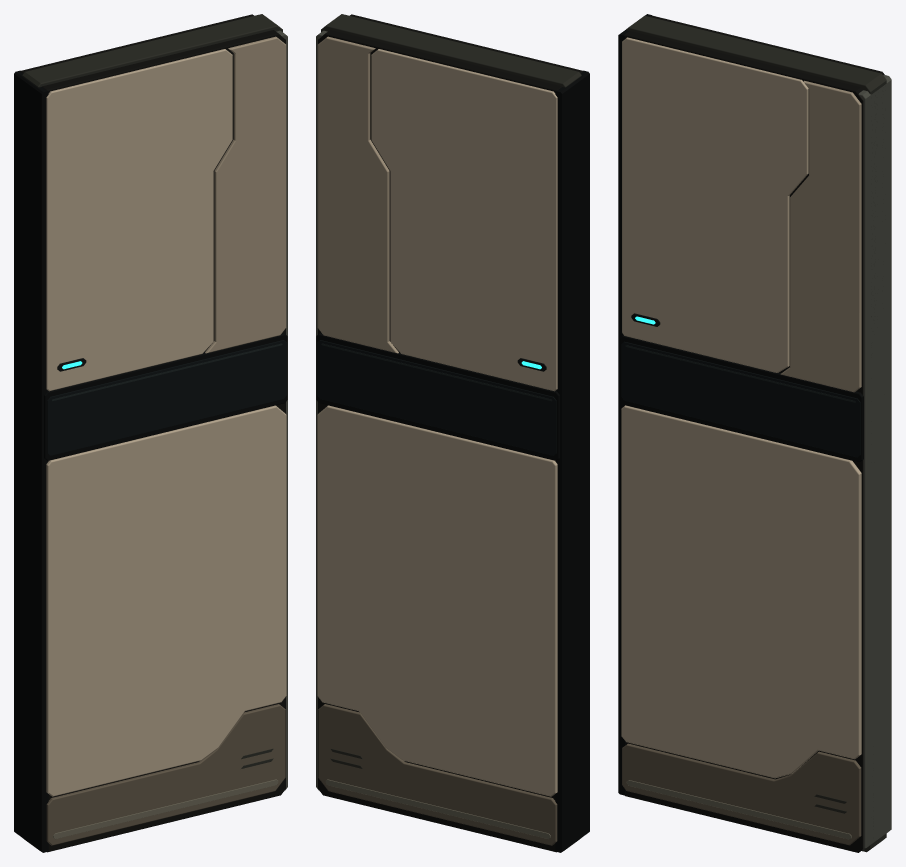
The model's file is SM_SlidingDoor_Right.fbx.
3 renders of one model, left to right at view 1: azimuth 30°, elevation 25°; view 2: azimuth 150°, elevation 25°; view 3: azimuth 330°, elevation 25°, orthographic.
Parts seen in each view (by area): view 1: SM_SlidingDoor_Right; view 2: SM_SlidingDoor_Right; view 3: SM_SlidingDoor_Right.
Part boxes in pixels (bbox=[...]): SM_SlidingDoor_Right: bbox=[14, 14, 287, 852]; SM_SlidingDoor_Right: bbox=[316, 14, 589, 852]; SM_SlidingDoor_Right: bbox=[618, 14, 891, 852].
Size of the model in its own units: 0.6582 by 0.1446 by 1.95.
